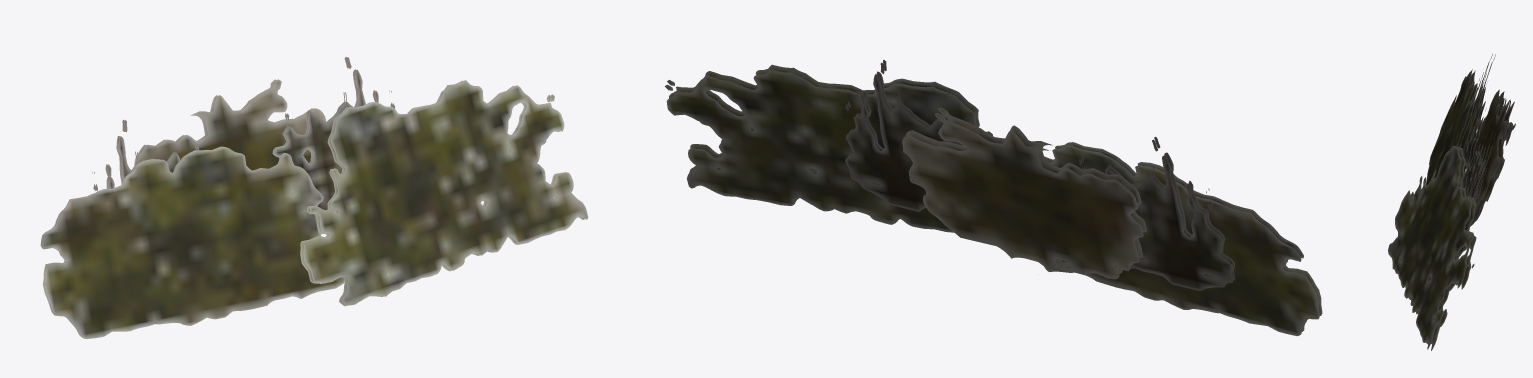
Rendered from bz_bush_02.fbx.
The picture shows the model from 3 angles, left to right: view 1: azimuth 30°, elevation 25°; view 2: azimuth 150°, elevation 25°; view 3: azimuth 270°, elevation 25°; orthographic projection. The views are drawn at different scales.
Parts seen in each view (by area): view 1: bz_bush_02; view 2: bz_bush_02; view 3: bz_bush_02.
Boxes of the visible parts, box(x1,y1,x2,y2) form: bz_bush_02: box(40, 57, 588, 338); bz_bush_02: box(665, 60, 1322, 336); bz_bush_02: box(1388, 53, 1515, 350).
Bounding box in the file's own units: 3.63 × 1.32 × 0.9927.
